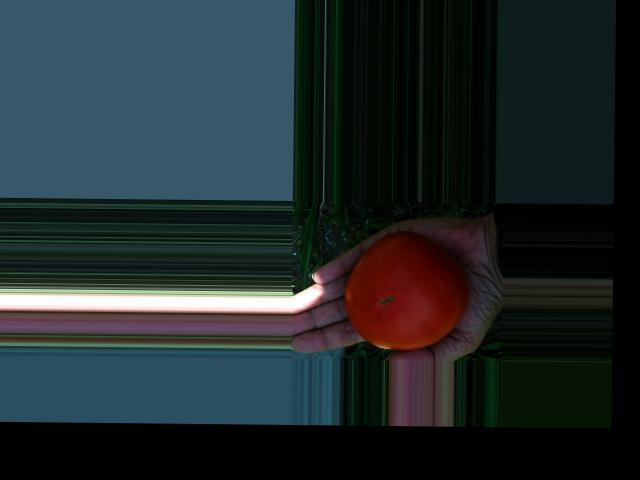tomato: (344, 230, 467, 350)
